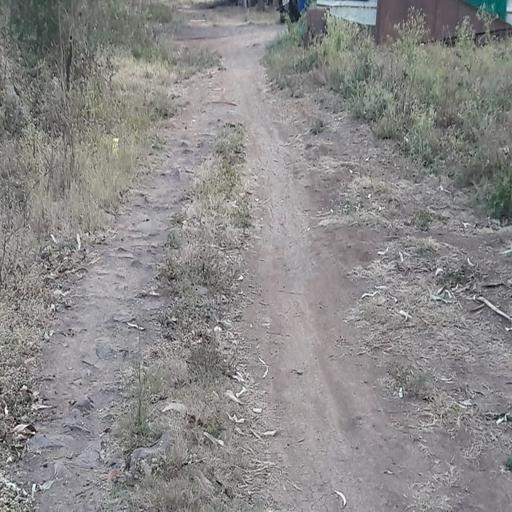vehicle_track: (30, 32, 407, 512)
